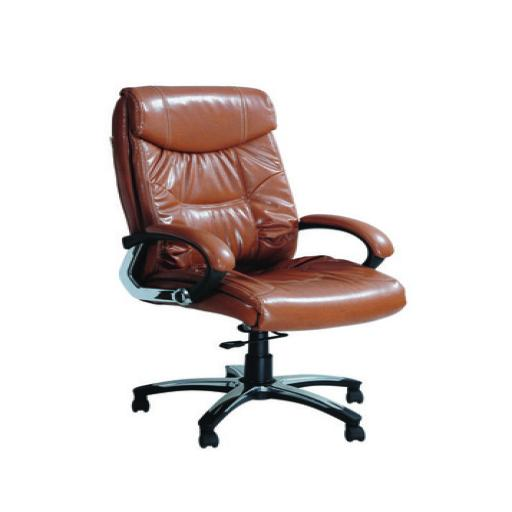chair: (97, 83, 412, 453)
